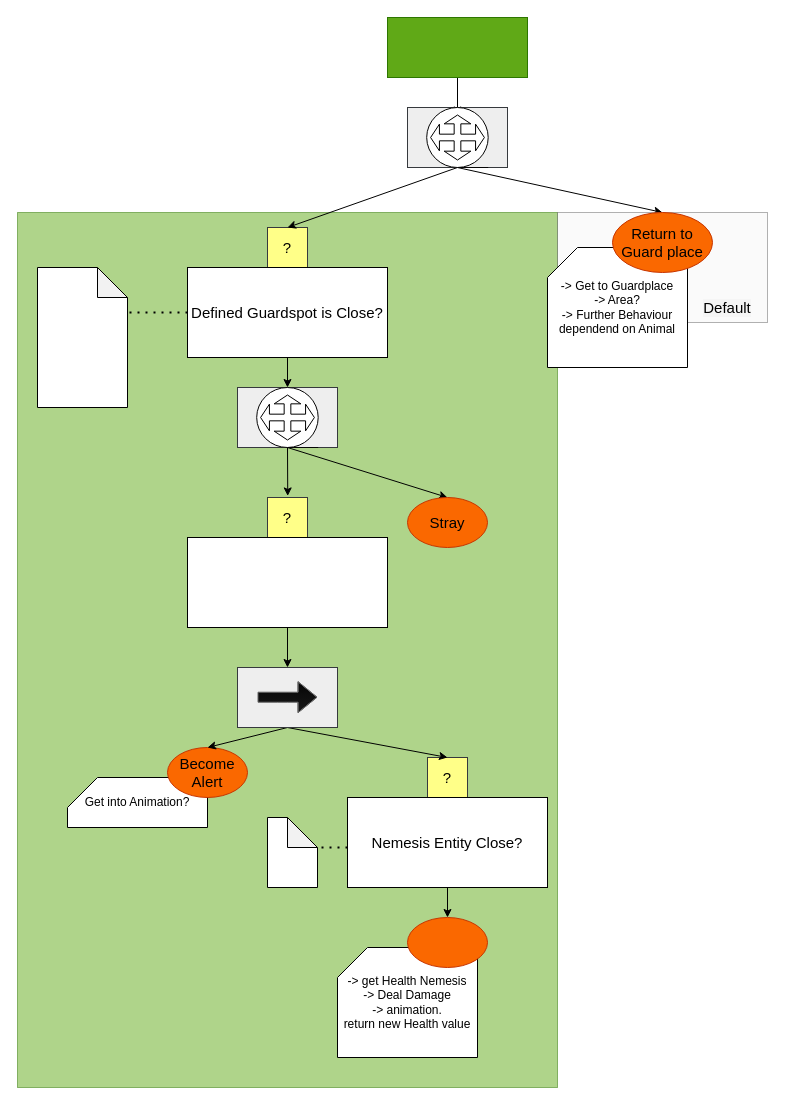
The diagram is 785 pixels wide and 1105 high, and some of its shapes have lost their labels. Each missing label, with the centre of its shape:
"Attack Nemesis" goes at (447,942).
"Confi (Range for being not close anymore) (Range for being back at Guard Spot" goes at (82,337).
"Confi (Range)" goes at (292,852).
"Guard (Sheep Dog)" goes at (457,47).
"Nemesis Entity Visible?" goes at (287,582).
